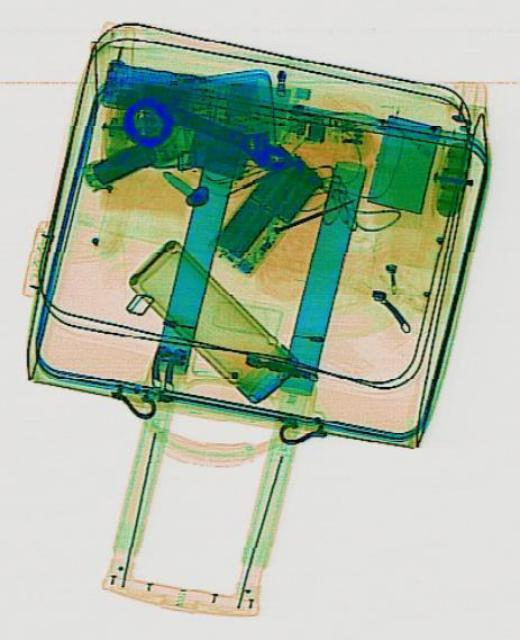Wrench: (147, 86, 293, 174)
